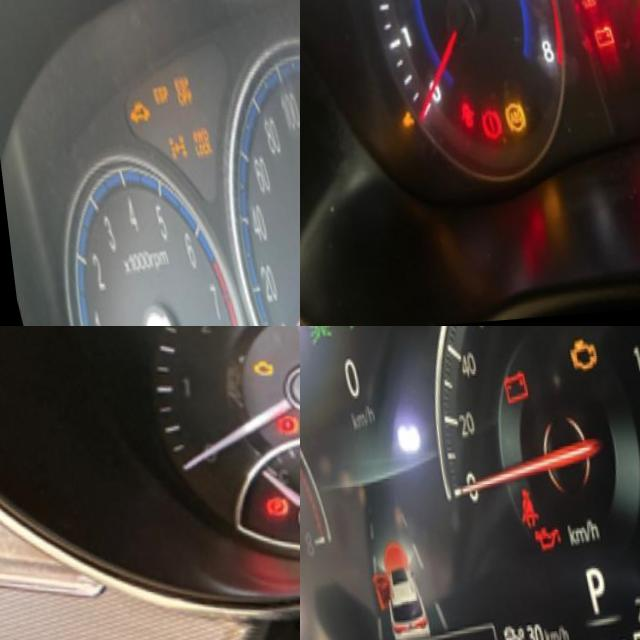High Engine Coolant Temperature: (569, 0, 590, 14)
security: (120, 97, 151, 138)
